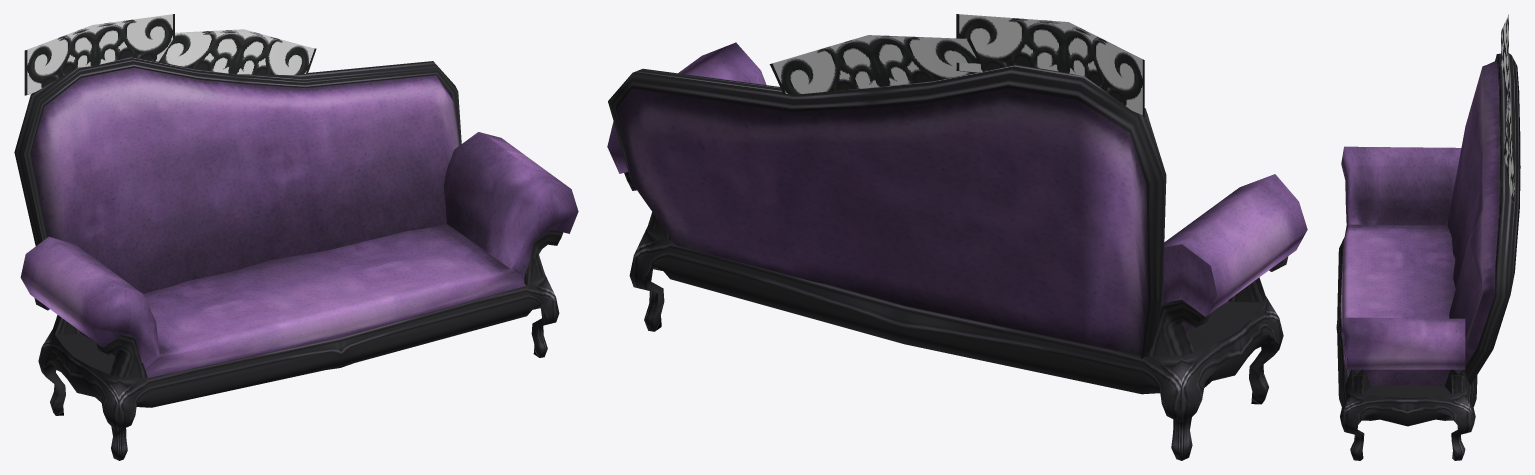
Rendered from BaroqueSofa_HD.fbx.
3 renders of one model, left to right at view 1: azimuth 30°, elevation 25°; view 2: azimuth 150°, elevation 25°; view 3: azimuth 270°, elevation 25°, orthographic. The views are drawn at different scales.
Parts seen in each view (by area): view 1: BaroqueSofa; view 2: BaroqueSofa; view 3: BaroqueSofa.
Boxes of the visible parts, x1,y1,x2,y2 form: BaroqueSofa: (14,14,578,460); BaroqueSofa: (607,14,1307,460); BaroqueSofa: (1336,14,1520,460).
Bounding box in the file's own units: 1.99 × 1.37 × 0.8003.
